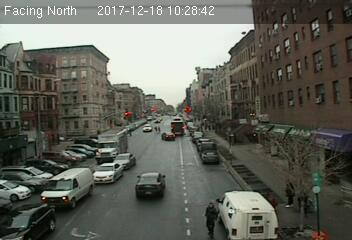car: (135, 172, 166, 195), (93, 164, 123, 183), (113, 153, 138, 168), (201, 150, 218, 164)
truck: (217, 190, 277, 240), (41, 167, 92, 208), (95, 128, 129, 160)
ups: (170, 121, 185, 136)
